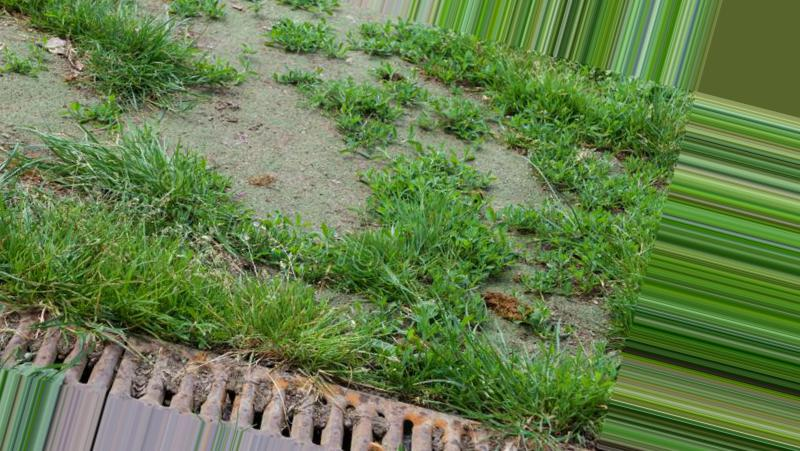patch: (451, 118, 561, 218), (4, 29, 75, 138), (227, 92, 291, 208), (298, 126, 350, 220), (214, 14, 277, 83), (302, 45, 371, 79), (174, 103, 220, 148)
